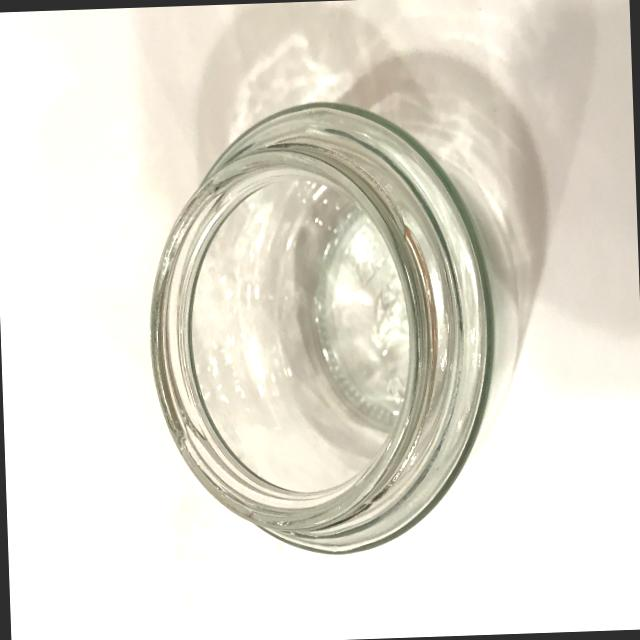Glass: (126, 69, 560, 584)
